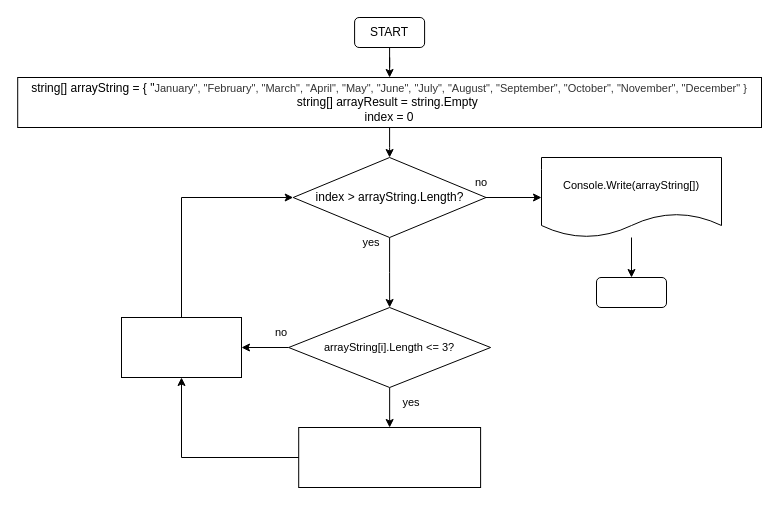
The diagram is 779 pixels wide and 505 high, and some of its shapes have lost their labels. Here are the shapes that lost their labels. From the top down, the centre of each, then its label:
point (631, 292): END
point (181, 347): index++
point (389, 457): arrayResult = arrayString[i]
